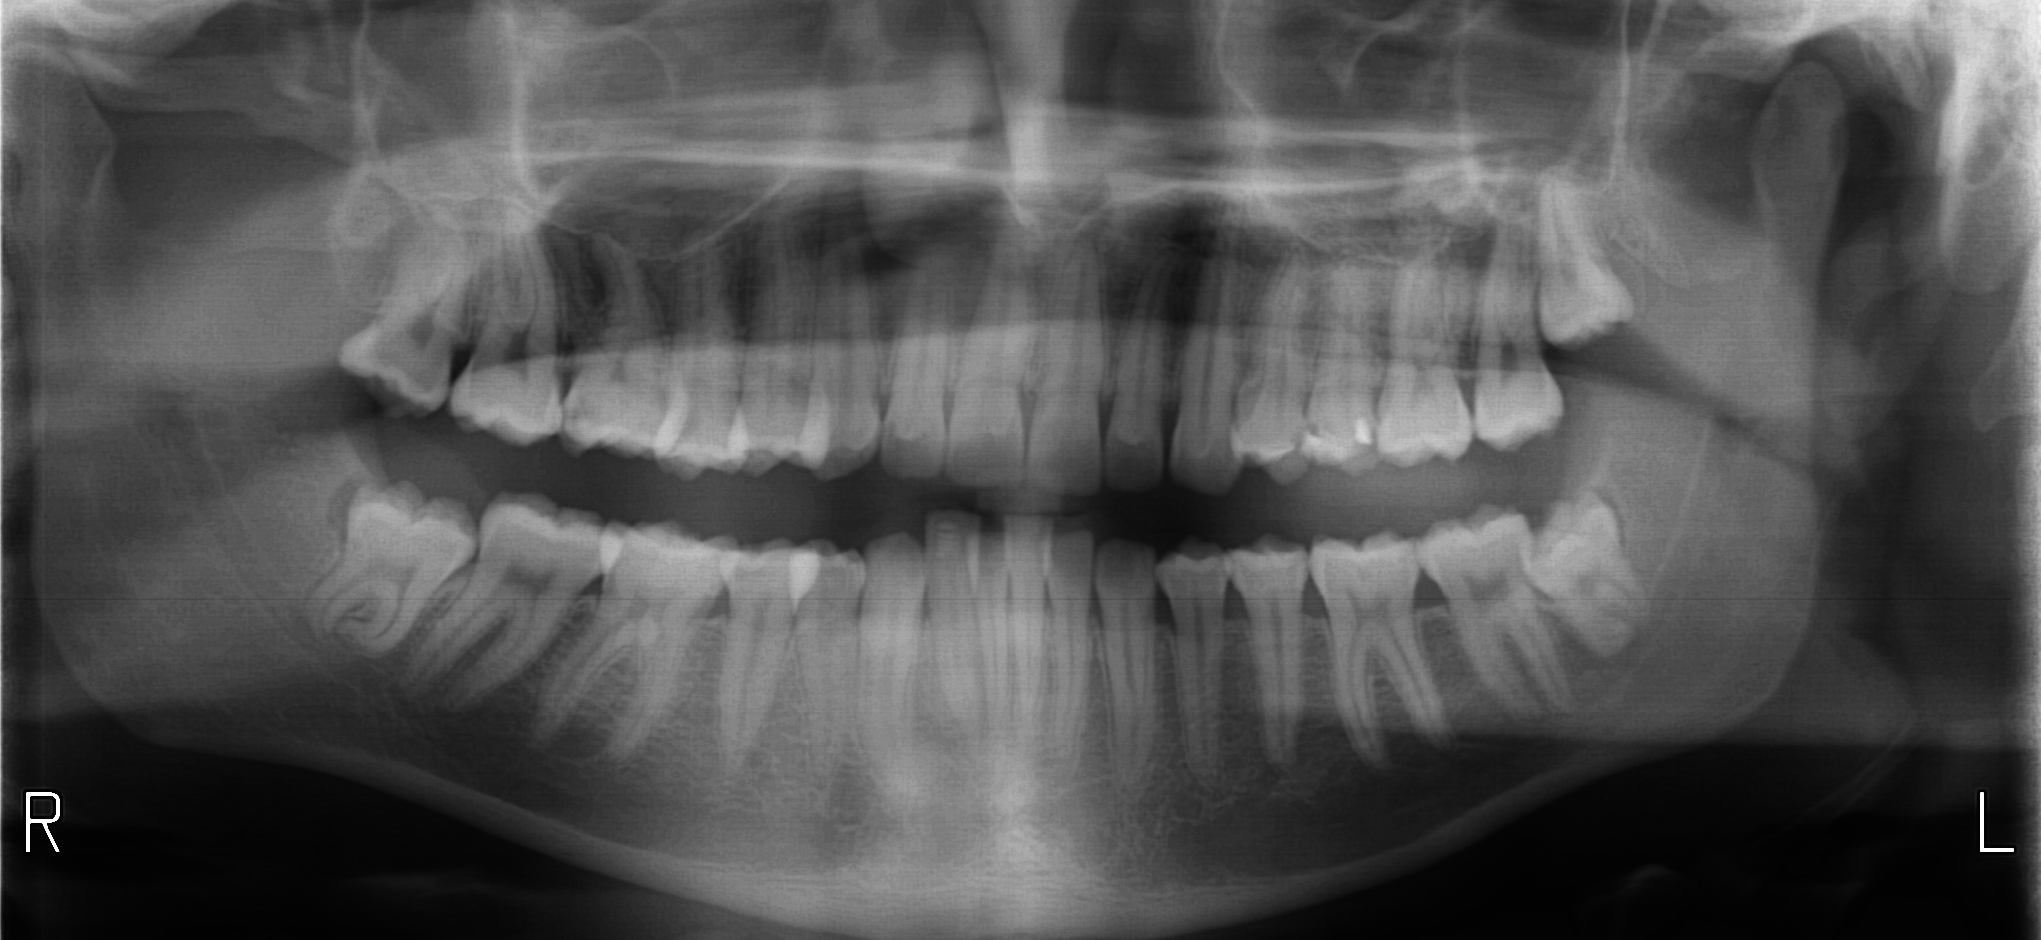cavity: (574, 398, 581, 417), (1312, 422, 1319, 431)
